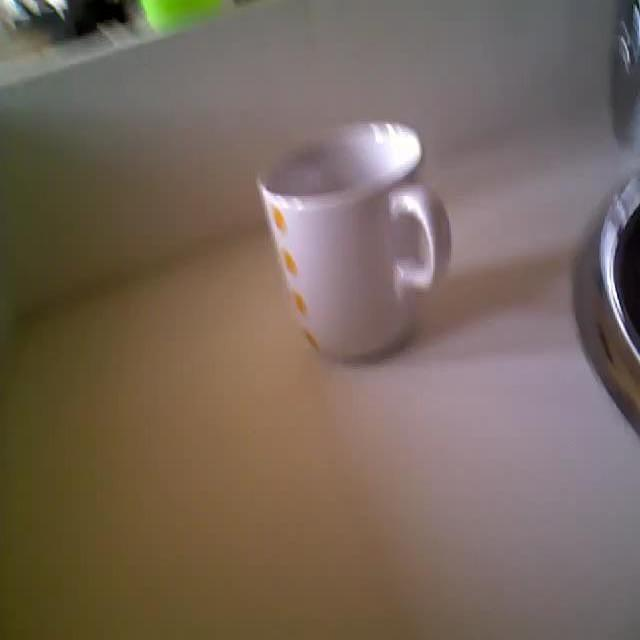cup: (258, 118, 450, 359)
